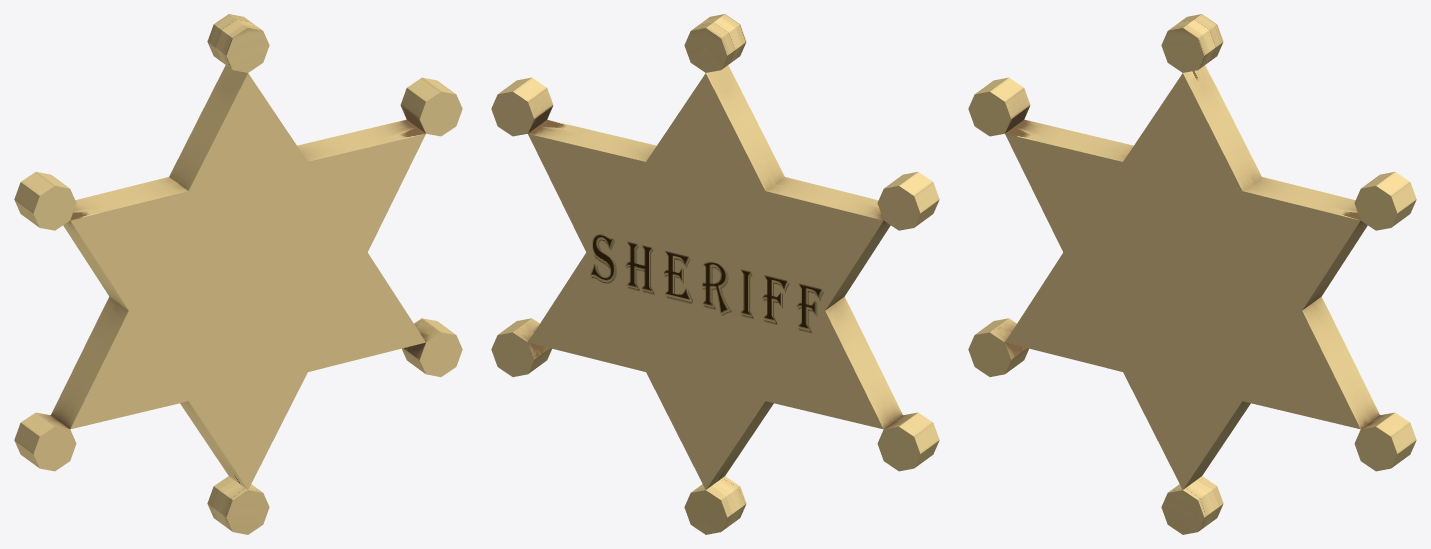
File: star.fbx
The picture shows the model from 3 angles, left to right: view 1: azimuth 30°, elevation 25°; view 2: azimuth 150°, elevation 25°; view 3: azimuth 330°, elevation 25°; orthographic projection.
Visible parts, largest first — view 1: star; view 2: star; view 3: star.
Boxes of the visible parts, left/top/right/bottom form: star: left=14, top=14, right=462, bottom=534; star: left=491, top=14, right=939, bottom=534; star: left=968, top=14, right=1416, bottom=534.
Size of the model in its own units: 53.79 by 60.7 by 4.23.
